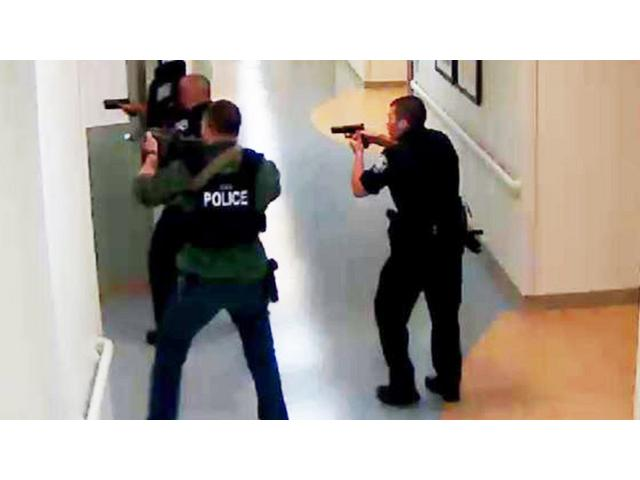pistol: (330, 123, 372, 151), (100, 96, 137, 119)
